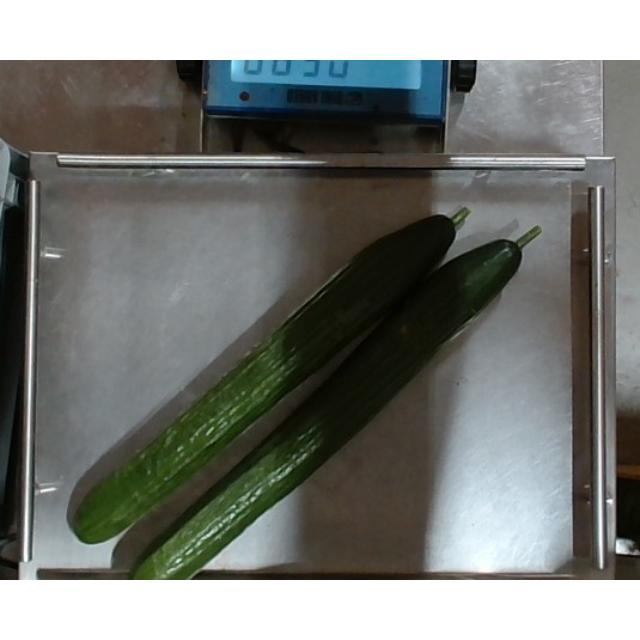cucumber: (92, 202, 544, 580), (68, 202, 474, 546)
